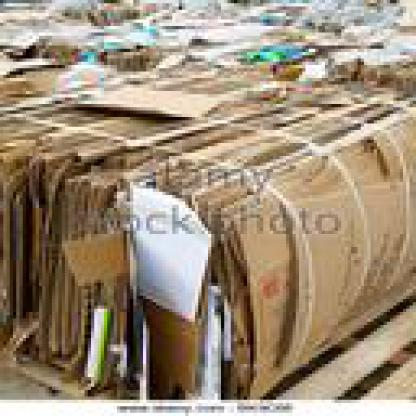CARDBOARD: (111, 78, 413, 393), (192, 91, 412, 393), (62, 65, 198, 374), (81, 178, 231, 396), (0, 55, 85, 355), (26, 152, 110, 374), (0, 134, 36, 358), (169, 26, 319, 75), (322, 19, 412, 87), (72, 81, 224, 117), (88, 16, 156, 65), (0, 0, 53, 59), (244, 39, 312, 75), (36, 13, 88, 55), (101, 46, 169, 69)
